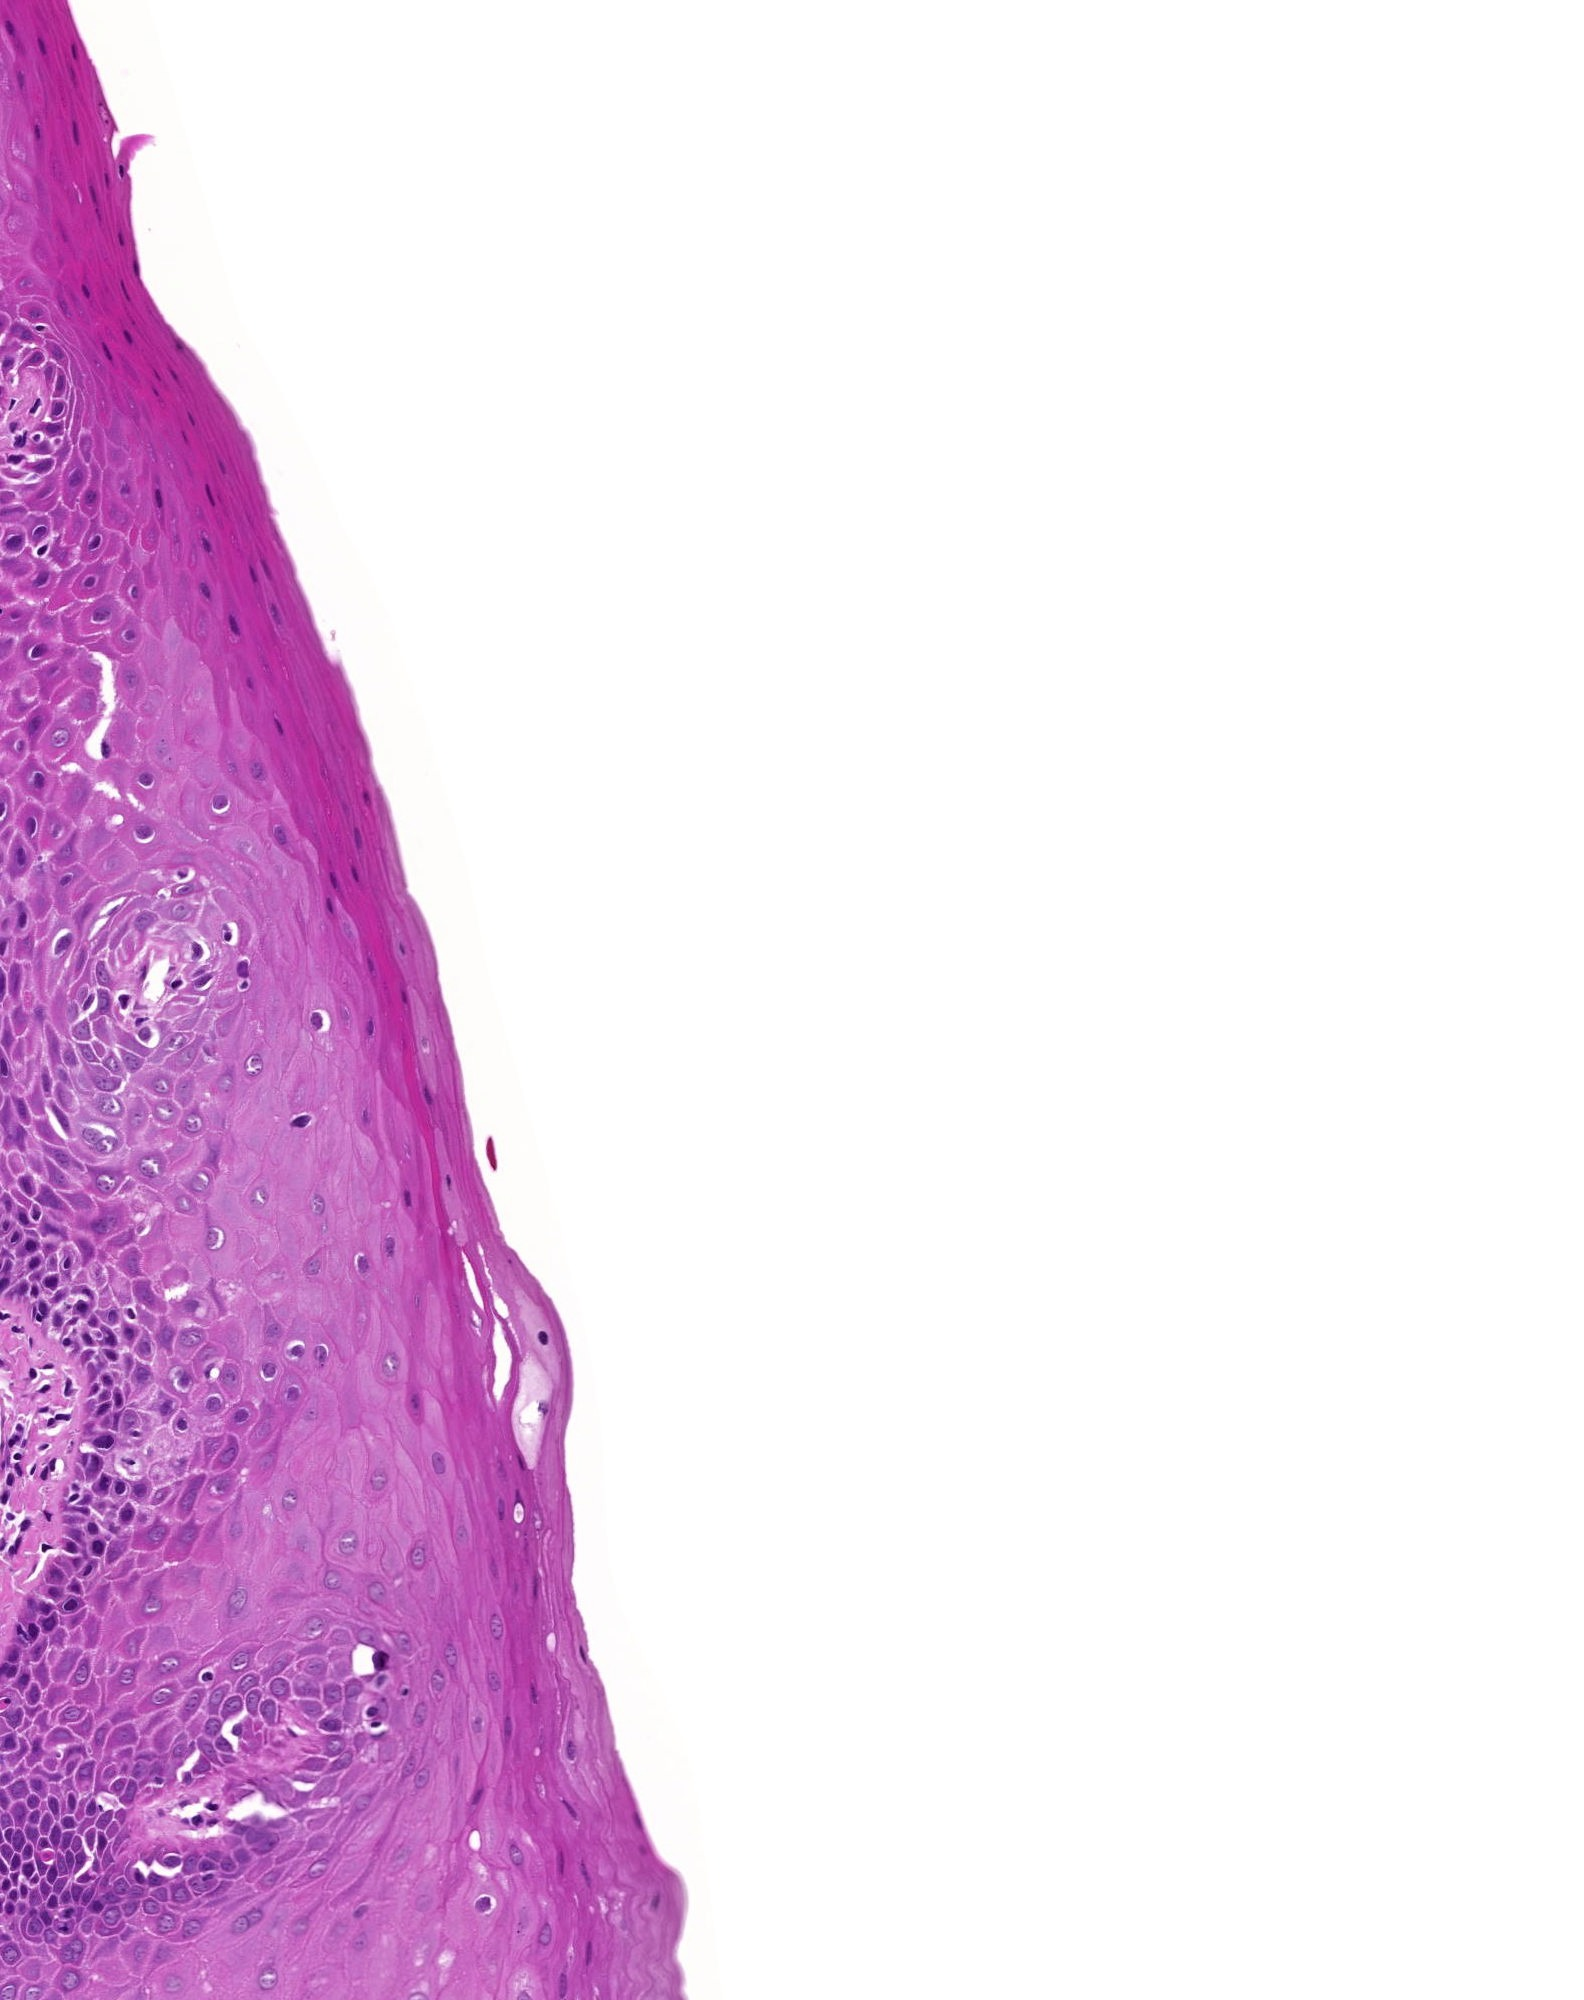epithelial: (214, 1847, 248, 1881), (3, 63, 37, 96), (193, 477, 226, 511), (140, 364, 172, 398), (45, 435, 80, 468), (118, 575, 151, 609), (128, 1278, 162, 1310), (177, 1469, 209, 1503), (295, 1250, 329, 1282), (36, 1857, 70, 1890), (11, 1818, 45, 1851), (18, 1786, 50, 1820), (67, 1865, 101, 1898), (97, 1877, 131, 1909), (227, 1813, 261, 1846), (16, 1812, 50, 1844), (115, 1765, 148, 1799), (122, 1872, 154, 1906), (42, 1851, 75, 1885), (2, 1891, 34, 1925), (89, 1886, 122, 1920), (219, 1701, 252, 1735), (315, 1718, 347, 1752), (60, 461, 93, 494), (26, 29, 58, 62), (58, 115, 91, 148), (162, 330, 195, 362), (37, 412, 70, 445), (41, 391, 73, 424), (21, 115, 54, 148), (58, 34, 91, 67), (76, 177, 109, 209), (206, 450, 239, 482), (28, 476, 60, 508), (47, 289, 80, 321), (18, 297, 50, 330), (162, 347, 195, 380), (47, 218, 80, 250), (18, 708, 50, 740), (265, 820, 297, 852), (23, 516, 55, 549), (316, 864, 349, 896), (242, 555, 274, 588), (68, 894, 101, 927), (250, 550, 282, 583), (71, 685, 104, 718), (73, 565, 105, 597), (234, 666, 266, 698), (65, 778, 97, 810), (386, 932, 419, 964), (412, 1080, 445, 1112), (398, 1385, 430, 1417), (175, 1289, 208, 1321), (214, 1433, 247, 1466), (305, 1338, 338, 1370), (213, 1359, 245, 1391), (422, 1446, 454, 1479), (252, 1352, 284, 1385), (115, 1247, 148, 1279), (70, 1232, 102, 1265), (128, 1330, 161, 1362), (204, 1468, 237, 1500), (44, 1141, 76, 1174), (276, 1377, 308, 1409), (2, 998, 34, 1031), (349, 1101, 381, 1133), (80, 1890, 112, 1922), (60, 1843, 93, 1875), (36, 1886, 68, 1919), (29, 1901, 62, 1933), (28, 1851, 60, 1883), (8, 1831, 41, 1864), (49, 1911, 81, 1943), (11, 1800, 44, 1833), (21, 1826, 54, 1859), (18, 1907, 50, 1940), (76, 1823, 109, 1856), (37, 1789, 70, 1821), (3, 1797, 36, 1830), (42, 1867, 75, 1899), (42, 1812, 75, 1844), (16, 1877, 49, 1909), (29, 1808, 62, 1841), (313, 1708, 346, 1740), (84, 1826, 117, 1859), (252, 1826, 284, 1859), (19, 1731, 52, 1763), (162, 1875, 195, 1907), (70, 1883, 102, 1916), (70, 1753, 102, 1786), (115, 1890, 148, 1922), (52, 1847, 84, 1880), (0, 1701, 32, 1734), (10, 1769, 42, 1802), (58, 1885, 91, 1917), (44, 1891, 76, 1924), (141, 1755, 174, 1787), (172, 1516, 204, 1549), (180, 1849, 213, 1881), (97, 1537, 130, 1570), (28, 1799, 60, 1831), (477, 1666, 510, 1698), (44, 1836, 76, 1869), (232, 1903, 265, 1935), (170, 1844, 203, 1877), (88, 1865, 120, 1898), (44, 1718, 76, 1750), (114, 1774, 146, 1807), (28, 1914, 60, 1946), (182, 1865, 214, 1898), (50, 1920, 83, 1953), (0, 1883, 32, 1916), (120, 1753, 153, 1786), (36, 1831, 68, 1864), (297, 1747, 329, 1779), (21, 1867, 54, 1899), (84, 1578, 117, 1610), (78, 1802, 110, 1834), (323, 1747, 355, 1779), (188, 1740, 221, 1773), (70, 1813, 102, 1846), (24, 1838, 57, 1870), (294, 1692, 326, 1724), (0, 1636, 32, 1669), (401, 1537, 433, 1570), (76, 1834, 109, 1867), (527, 1391, 560, 1424), (519, 1568, 552, 1601), (545, 1846, 578, 1878), (242, 753, 273, 787), (65, 1877, 96, 1911), (2, 1821, 32, 1856), (28, 1877, 62, 1907), (19, 1846, 50, 1880), (67, 1852, 97, 1886), (88, 1804, 118, 1838), (68, 1649, 99, 1683), (114, 320, 144, 352), (91, 336, 123, 367), (157, 359, 188, 391), (175, 403, 208, 433), (6, 317, 39, 347), (75, 479, 105, 511), (109, 274, 141, 305), (109, 472, 140, 505), (148, 359, 180, 390), (3, 841, 36, 872), (341, 821, 373, 852), (84, 597, 115, 630), (339, 859, 372, 890), (127, 904, 157, 937), (188, 575, 221, 606), (192, 528, 222, 560), (0, 524, 31, 557), (114, 662, 146, 693), (351, 779, 381, 812), (204, 786, 235, 818), (128, 815, 161, 846), (114, 619, 146, 649), (354, 950, 386, 981), (263, 709, 294, 742), (50, 834, 83, 865), (0, 963, 32, 994), (71, 976, 102, 1008), (36, 1183, 68, 1214), (149, 1321, 182, 1352), (5, 1273, 37, 1304), (226, 1399, 256, 1432), (196, 1141, 227, 1174), (3, 1119, 34, 1151), (196, 1388, 227, 1420), (256, 1313, 287, 1346), (117, 1045, 149, 1076), (373, 1231, 406, 1261), (347, 1247, 378, 1279), (67, 1013, 97, 1045), (15, 1854, 45, 1886), (16, 1615, 47, 1648), (52, 1808, 84, 1839), (11, 1865, 42, 1898), (36, 1821, 68, 1852), (192, 1851, 222, 1883), (6, 1877, 39, 1907), (140, 1862, 170, 1894), (39, 1558, 71, 1589), (23, 1768, 54, 1800), (5, 1851, 37, 1881), (226, 1839, 256, 1872), (190, 1862, 221, 1894), (154, 1846, 187, 1877), (140, 1516, 170, 1549), (204, 1846, 237, 1877), (68, 1830, 99, 1862), (58, 1826, 89, 1859), (214, 1692, 247, 1722), (19, 1893, 50, 1925), (36, 1907, 68, 1938), (58, 1932, 89, 1964), (2, 1774, 34, 1805), (315, 1677, 347, 1708), (71, 1844, 102, 1877), (239, 1818, 269, 1851), (54, 1795, 84, 1828), (18, 1679, 50, 1709), (110, 1719, 141, 1752), (0, 1843, 32, 1873), (187, 1750, 217, 1782), (336, 1675, 367, 1708), (195, 1843, 227, 1873), (41, 1878, 71, 1911), (174, 1859, 204, 1891), (140, 1883, 170, 1916), (83, 1721, 115, 1752), (3, 1625, 34, 1657), (47, 1860, 80, 1891), (170, 1870, 203, 1901), (162, 1735, 195, 1766), (68, 1901, 99, 1933), (315, 1690, 346, 1722), (57, 1906, 88, 1938), (52, 1698, 84, 1729), (252, 1813, 282, 1846), (505, 1445, 536, 1477), (639, 1885, 670, 1917), (553, 1734, 586, 1765), (518, 1677, 549, 1709), (571, 1937, 604, 1968), (547, 1968, 579, 1998), (570, 1856, 600, 1888), (105, 1771, 140, 1800), (105, 222, 136, 253), (70, 274, 101, 305), (42, 338, 73, 369), (57, 58, 88, 89), (260, 597, 291, 628), (84, 1209, 115, 1240), (127, 1359, 157, 1390), (54, 1896, 84, 1927), (54, 1878, 84, 1909), (49, 1825, 80, 1856), (32, 1609, 63, 1640), (122, 1860, 153, 1891), (76, 1791, 107, 1821), (84, 1881, 115, 1912), (252, 1693, 282, 1724), (196, 1713, 227, 1744), (105, 1872, 136, 1903), (75, 1860, 105, 1891), (114, 1657, 144, 1688), (21, 1640, 52, 1670), (265, 1670, 295, 1701), (622, 1805, 652, 1836), (626, 1834, 657, 1865), (0, 1867, 29, 1899)
fibroblast and endothelial: (36, 1571, 70, 1606), (128, 763, 162, 795), (42, 1401, 76, 1433), (89, 1424, 122, 1458), (94, 1330, 127, 1364), (102, 1381, 136, 1414), (50, 1325, 84, 1357), (93, 1308, 125, 1343), (89, 1365, 122, 1399), (76, 1458, 110, 1490), (93, 1403, 127, 1435), (3, 1411, 36, 1445), (70, 1338, 102, 1372), (71, 1282, 104, 1317), (57, 1317, 89, 1351), (355, 1695, 388, 1729), (19, 1627, 52, 1661), (62, 1545, 96, 1578), (26, 1615, 58, 1649), (131, 1843, 166, 1875), (8, 1523, 41, 1557), (342, 1896, 377, 1929), (3, 430, 36, 463), (5, 422, 37, 455), (42, 378, 75, 411), (105, 153, 138, 185), (44, 367, 76, 399), (19, 420, 52, 453), (89, 162, 122, 195), (28, 425, 60, 458), (19, 321, 52, 354), (26, 532, 58, 565), (5, 903, 37, 935), (180, 933, 213, 966), (226, 953, 258, 985), (217, 609, 250, 641), (169, 964, 201, 997), (16, 531, 49, 563), (29, 1456, 62, 1489), (36, 1266, 68, 1299), (26, 1292, 58, 1325), (75, 1443, 107, 1476), (282, 1106, 315, 1138), (15, 1227, 47, 1260), (34, 1398, 67, 1430), (34, 1450, 67, 1482), (3, 1208, 36, 1240), (94, 1299, 127, 1331), (28, 1372, 60, 1404), (2, 1438, 34, 1471), (41, 1304, 73, 1336), (96, 1339, 128, 1372), (45, 1102, 78, 1135), (10, 1169, 42, 1201), (149, 1391, 182, 1424), (300, 1003, 333, 1036), (28, 1231, 60, 1263), (58, 1471, 91, 1503), (83, 1435, 115, 1468), (101, 1396, 133, 1429), (50, 1284, 83, 1317), (23, 997, 55, 1029), (55, 1292, 88, 1325), (88, 1453, 120, 1485), (365, 1643, 398, 1675), (54, 1529, 86, 1562), (0, 1528, 32, 1560), (75, 1510, 107, 1542), (8, 1508, 41, 1541), (54, 1588, 86, 1620), (3, 1615, 36, 1648), (29, 1529, 62, 1562), (49, 1787, 81, 1820), (360, 1713, 393, 1745), (467, 1886, 500, 1919), (76, 1537, 109, 1570), (187, 1795, 219, 1828), (58, 1734, 91, 1766), (461, 1779, 493, 1812), (143, 1844, 175, 1877), (65, 1562, 97, 1594), (182, 1787, 214, 1820), (566, 1636, 599, 1669), (553, 1792, 586, 1825), (2, 412, 32, 446), (49, 864, 80, 898), (101, 1468, 131, 1502), (21, 1282, 52, 1317), (6, 1451, 37, 1485), (24, 1429, 58, 1459), (21, 1451, 52, 1485), (114, 1446, 148, 1477), (128, 1019, 162, 1050), (52, 1049, 83, 1083), (6, 1664, 41, 1695), (58, 1519, 89, 1554), (0, 442, 31, 474), (19, 390, 50, 422), (141, 481, 174, 511), (19, 341, 50, 373), (118, 252, 151, 282), (34, 357, 65, 390), (26, 347, 58, 378), (159, 968, 192, 998), (89, 734, 122, 765), (211, 920, 243, 951), (26, 562, 58, 593), (188, 963, 219, 995), (26, 549, 58, 580), (313, 890, 346, 920), (80, 526, 110, 558), (15, 808, 45, 841), (49, 925, 80, 958), (128, 958, 161, 989), (107, 976, 140, 1006), (65, 1291, 97, 1321), (88, 1466, 118, 1498), (86, 1325, 118, 1356), (10, 1201, 41, 1234), (96, 1320, 127, 1352), (3, 1226, 36, 1256), (71, 1320, 102, 1352), (70, 1274, 101, 1307), (0, 1424, 31, 1456), (50, 1372, 83, 1403), (36, 1213, 67, 1245), (166, 1407, 196, 1440), (50, 1247, 83, 1278), (125, 1011, 157, 1042), (88, 1394, 120, 1425), (42, 1281, 75, 1312), (26, 1205, 58, 1235), (281, 1334, 312, 1367), (13, 1240, 44, 1273), (5, 1093, 37, 1123), (23, 1300, 54, 1333), (28, 1393, 58, 1425), (391, 1180, 422, 1213), (91, 1381, 123, 1412), (42, 1295, 75, 1326), (28, 1273, 58, 1305), (8, 1429, 41, 1459), (123, 1472, 156, 1503), (29, 1067, 62, 1097), (476, 1135, 506, 1167), (11, 1260, 42, 1292), (0, 1313, 32, 1344), (107, 1403, 140, 1433), (70, 1372, 101, 1404), (169, 1362, 200, 1394), (101, 1373, 131, 1406), (57, 1305, 88, 1338), (96, 1386, 128, 1417), (84, 1359, 115, 1391), (112, 1343, 144, 1373), (68, 1308, 101, 1339), (78, 1422, 110, 1453), (24, 1260, 57, 1291), (45, 1315, 76, 1347), (83, 1529, 114, 1562), (182, 1804, 214, 1834), (365, 1654, 396, 1687), (71, 1554, 104, 1584), (28, 1591, 58, 1623), (110, 1498, 143, 1529), (192, 1661, 224, 1692), (32, 1498, 63, 1531), (16, 1588, 47, 1620), (196, 1805, 227, 1838), (58, 1537, 89, 1570), (208, 1727, 239, 1760), (13, 1670, 45, 1701), (91, 1515, 123, 1545), (23, 1606, 55, 1636), (16, 1661, 49, 1692), (47, 1593, 78, 1625), (28, 437, 58, 468), (28, 450, 58, 481), (23, 635, 54, 666), (23, 765, 54, 795), (19, 1248, 50, 1279), (114, 1317, 144, 1347), (37, 1248, 68, 1279), (110, 1299, 141, 1330), (114, 1471, 144, 1502), (32, 1351, 63, 1381), (0, 1461, 31, 1492), (83, 1372, 114, 1403), (32, 1286, 63, 1317), (118, 1416, 149, 1446), (354, 1011, 385, 1042), (70, 1531, 101, 1562), (78, 1523, 109, 1554), (58, 1606, 89, 1636), (169, 1787, 200, 1818), (527, 1321, 558, 1352), (58, 1571, 91, 1601), (0, 1657, 29, 1688)
lymphocyte: (76, 1305, 110, 1338), (54, 1748, 86, 1782), (6, 388, 39, 420), (16, 1357, 49, 1390), (50, 1385, 83, 1417), (432, 1164, 464, 1196), (170, 1761, 203, 1794), (221, 1713, 252, 1747), (166, 859, 196, 891), (19, 1198, 50, 1231), (16, 1274, 49, 1305), (390, 1675, 420, 1708), (21, 1502, 54, 1532), (37, 1761, 70, 1792), (23, 308, 54, 339), (196, 1791, 227, 1821), (80, 1851, 110, 1881), (76, 1489, 109, 1518)
